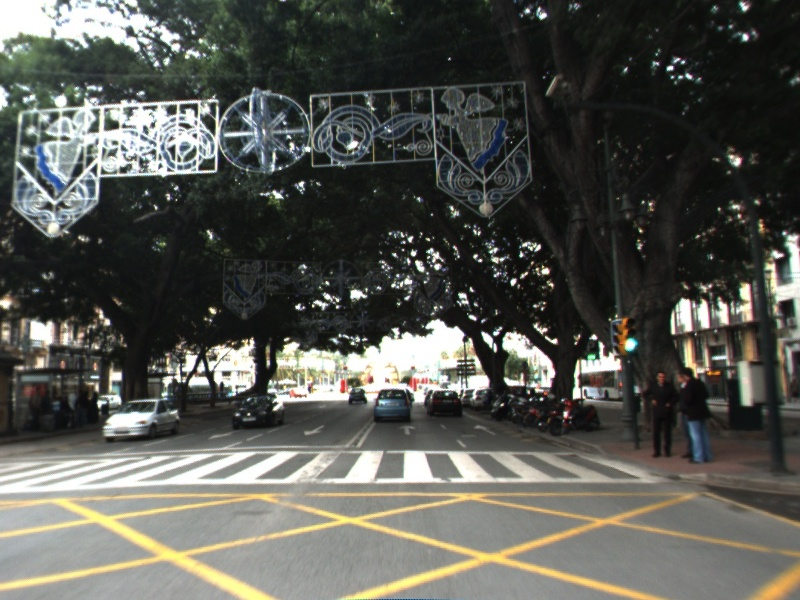STRAIGHT: (471, 422, 499, 437), (396, 423, 417, 436)
